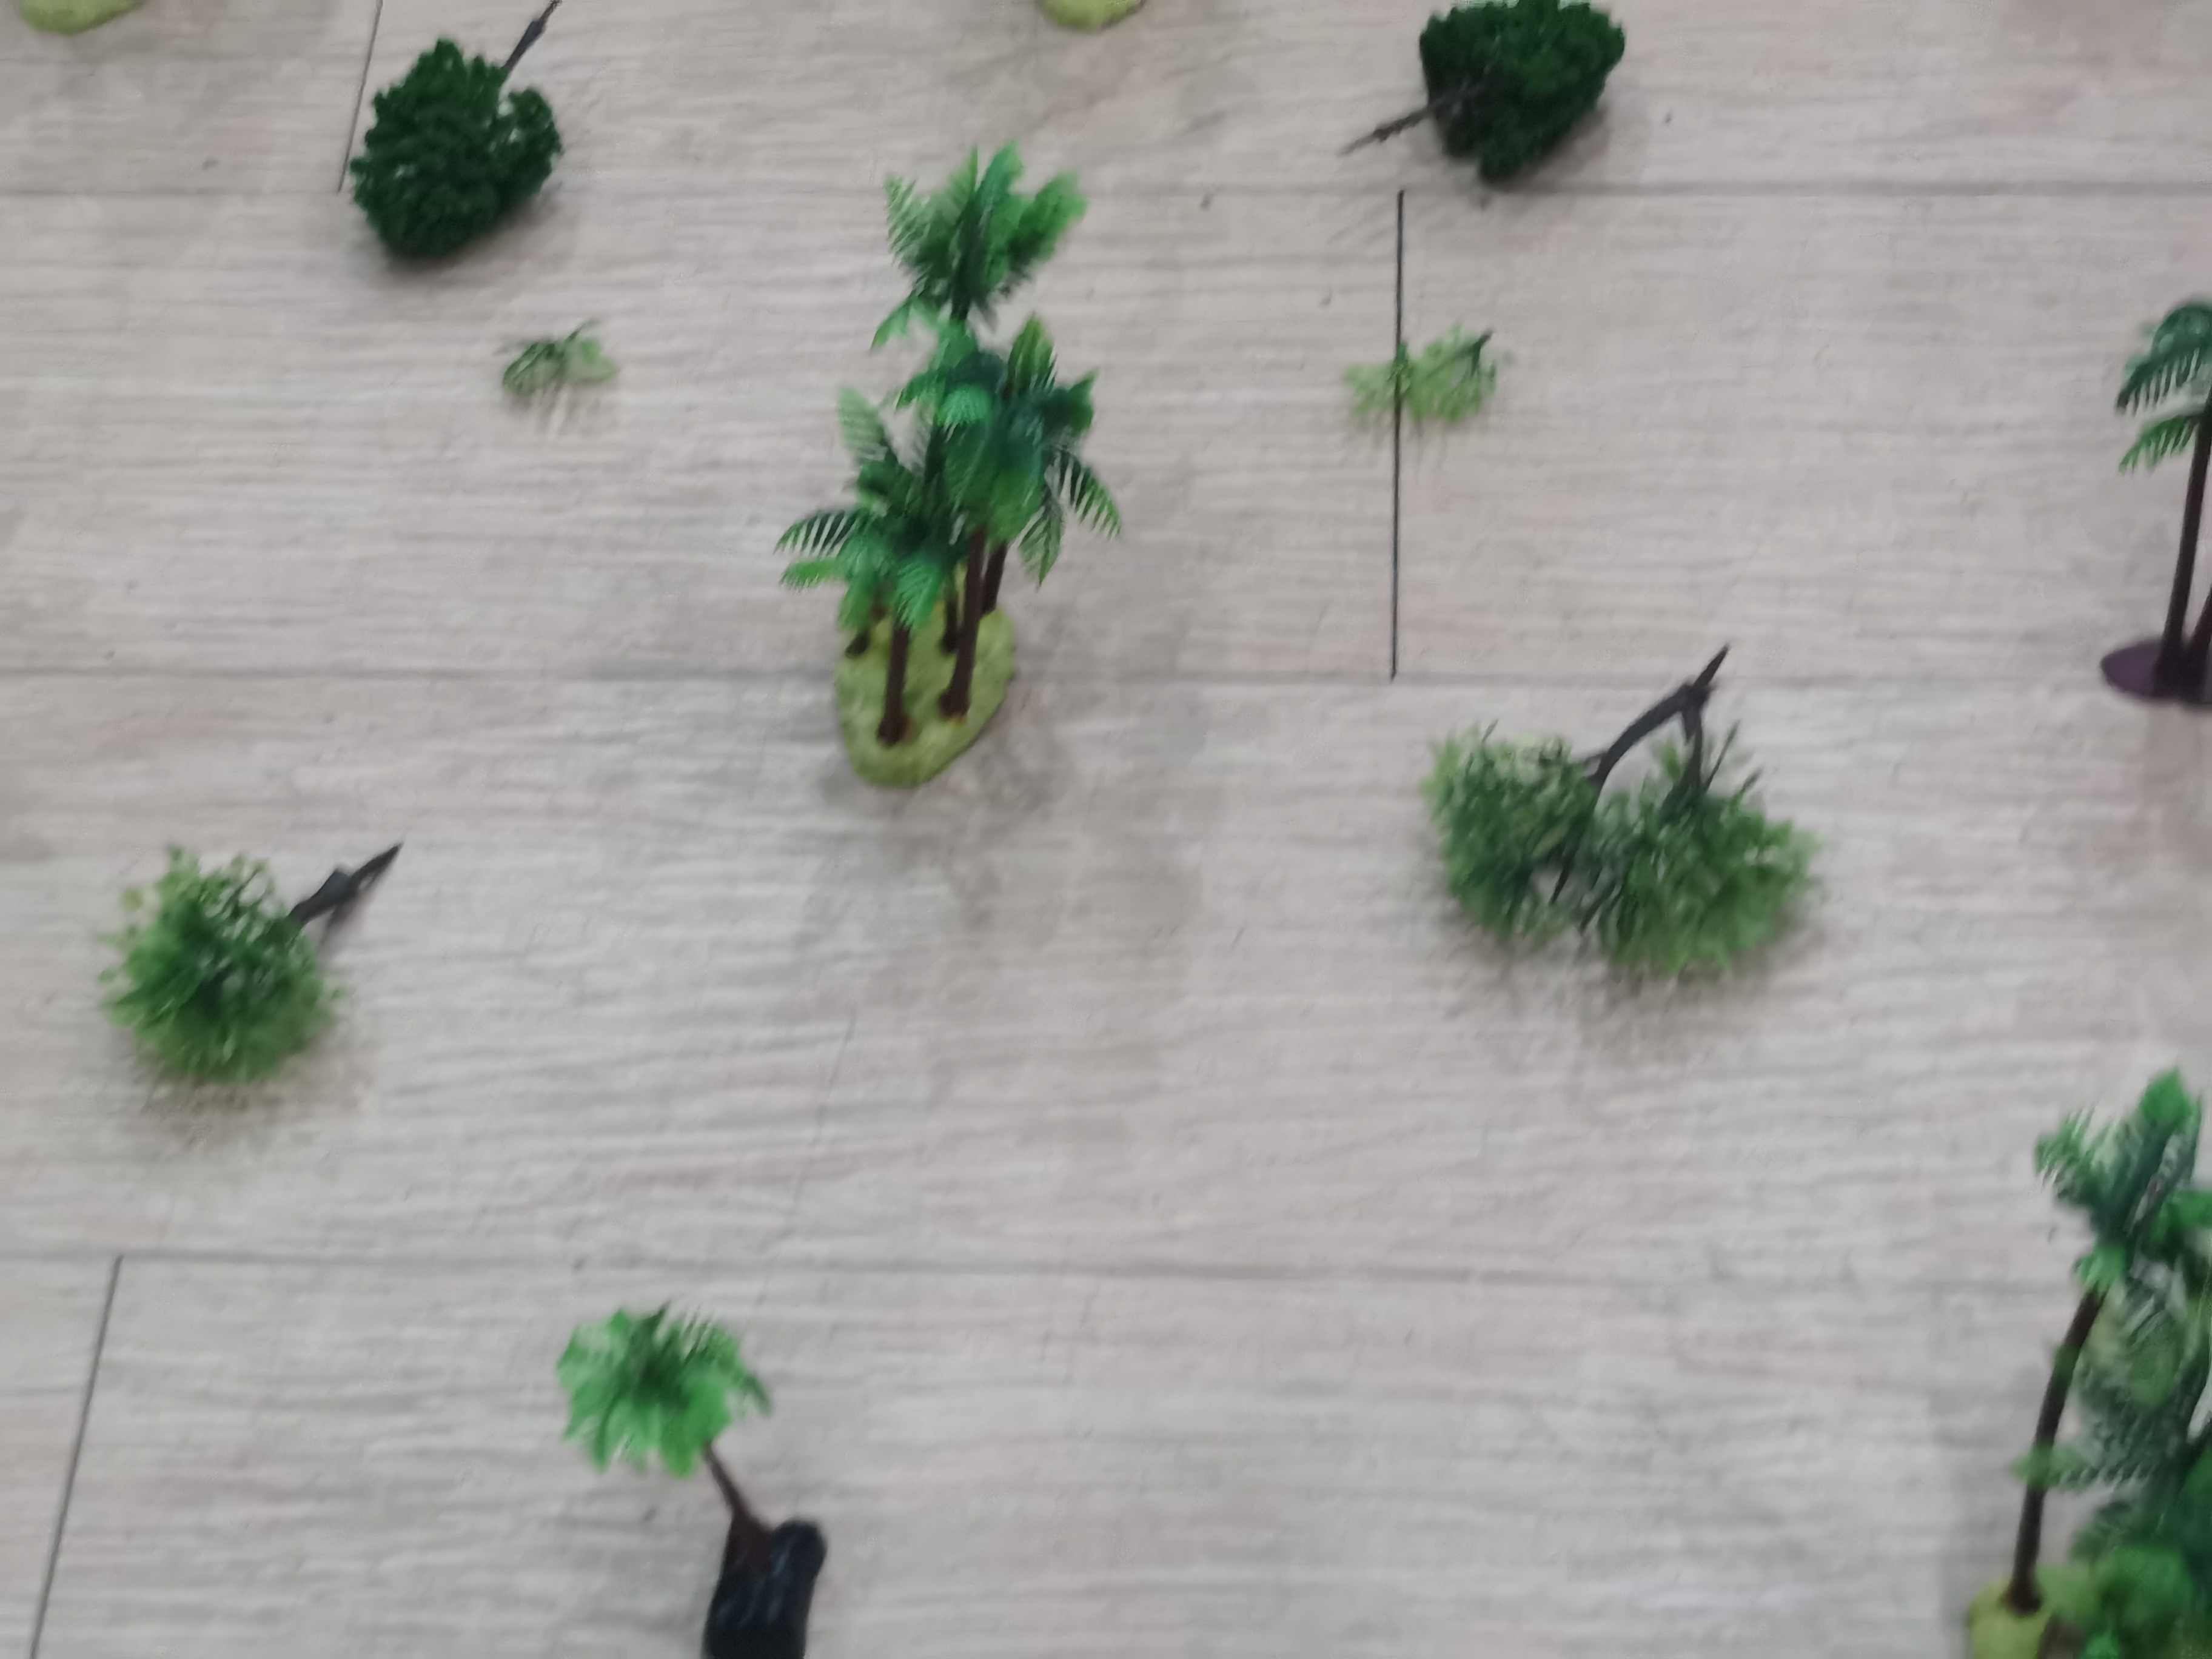corn: (777, 152, 1120, 800), (1975, 1040, 2212, 1659), (524, 1300, 848, 1659), (2088, 282, 2212, 714)
